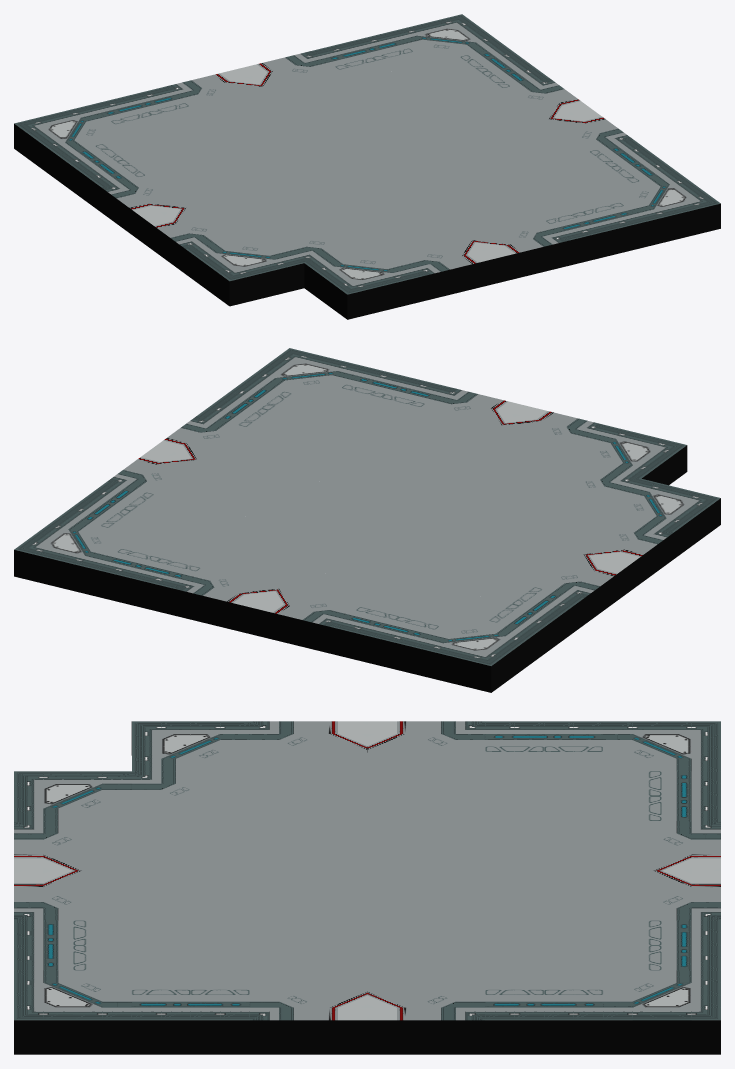
Rendered from MedicalBay.fbx.
The picture shows the model from 3 angles, top to bottom: view 1: azimuth 30°, elevation 25°; view 2: azimuth 150°, elevation 25°; view 3: azimuth 270°, elevation 25°; orthographic projection. The views are drawn at different scales.
Parts seen in each view (by area): view 1: SolMedicalBay; view 2: SolMedicalBay; view 3: SolMedicalBay.
Boxes of the visible parts, x1,y1,x2,y2 form: SolMedicalBay: (14, 14, 720, 319); SolMedicalBay: (14, 348, 720, 692); SolMedicalBay: (14, 721, 720, 1054).
Size of the model in its own units: 1800 by 1800 by 96.49.
